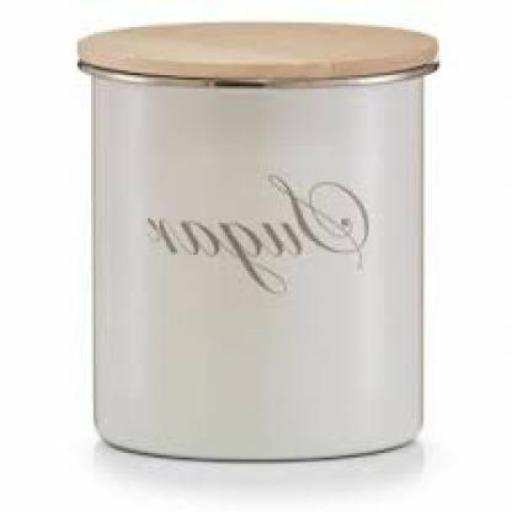metal: (80, 61, 439, 453)
